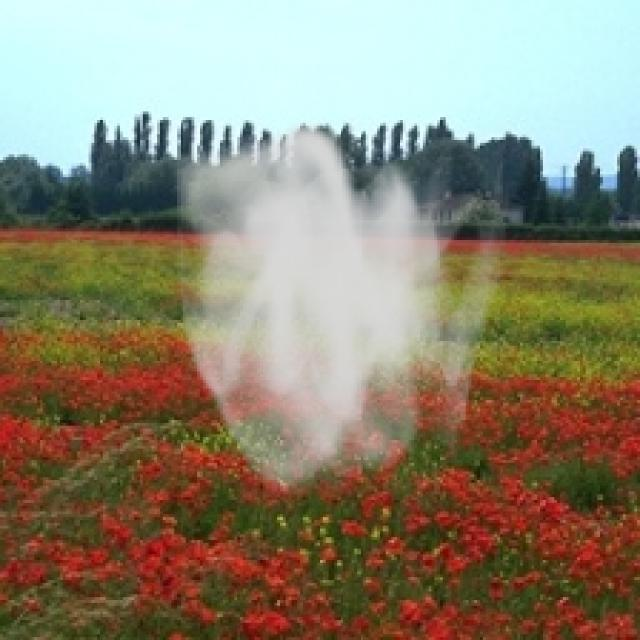Smoke: (166, 120, 512, 503)
